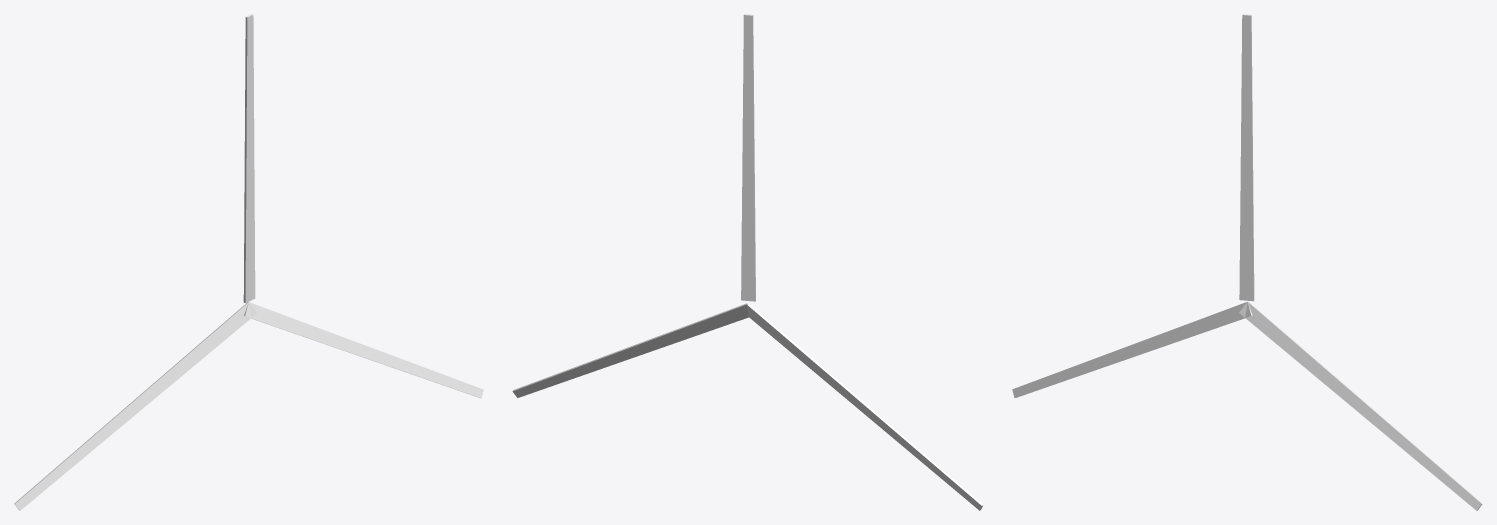
File: windturbin_turbine.fbx
The picture shows the model from 3 angles, left to right: view 1: azimuth 30°, elevation 25°; view 2: azimuth 150°, elevation 25°; view 3: azimuth 330°, elevation 25°; orthographic projection.
Parts seen in each view (by area): view 1: turbin; view 2: turbin; view 3: turbin.
Boxes of the visible parts, x1,y1,x2,y2 form: turbin: [14, 14, 483, 510]; turbin: [512, 14, 983, 510]; turbin: [1012, 14, 1482, 510].
Bounding box in the file's own units: 206 × 184 × 2.64.
